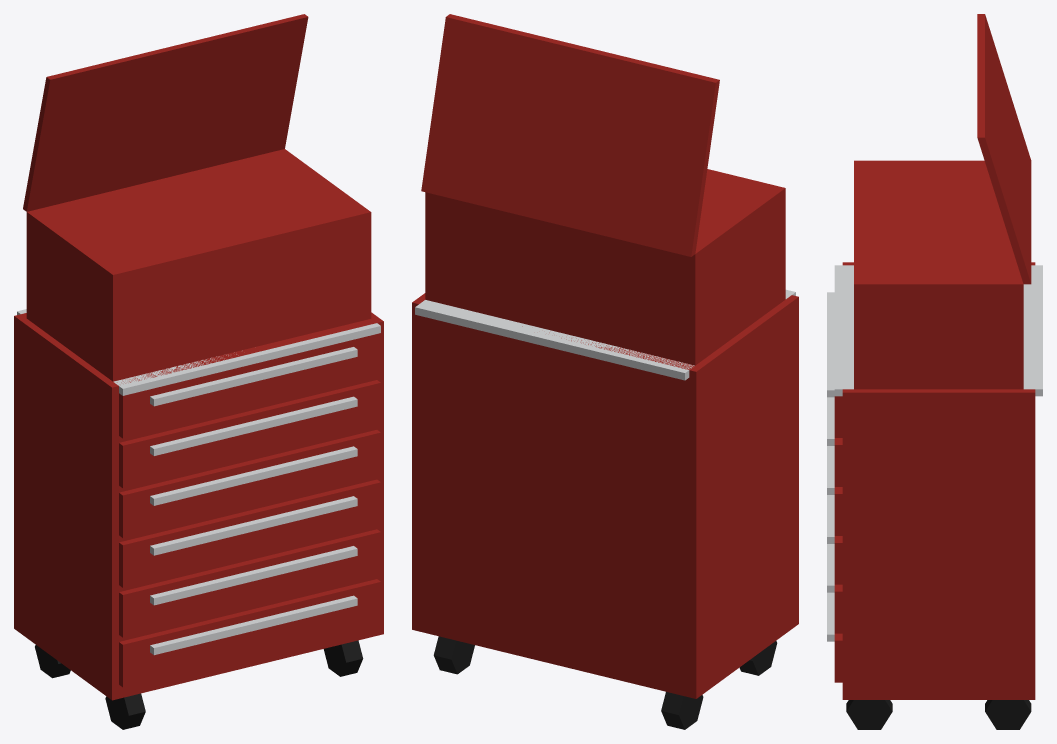
The model's file is tool_chest.glb.
3 views of the same model, side by side, from view 1: azimuth 30°, elevation 25°; view 2: azimuth 150°, elevation 25°; view 3: azimuth 270°, elevation 25° (orthographic). The views are drawn at different scales.
Parts seen in each view (by area): view 1: tool_chest; view 2: tool_chest; view 3: tool_chest.
Boxes of the visible parts, box(x1,y1,x2,y2) form: tool_chest: box(14, 14, 383, 729); tool_chest: box(412, 14, 798, 729); tool_chest: box(827, 14, 1042, 729).
Size of the model in its own units: 0.8 by 1.71 by 0.56.
Materials: 1 (1 with a texture image).
